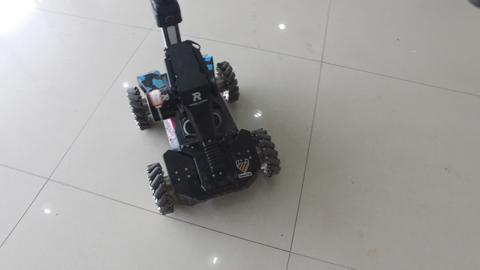chariot: (102, 20, 295, 226)
